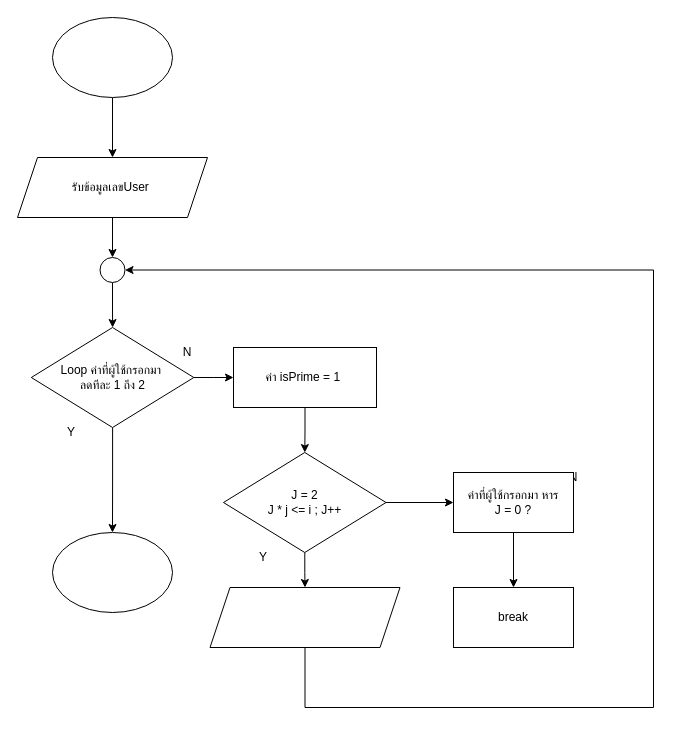
Image size: 679x733. Some labels were removed from this diagram. Each missing label, with the centre of its shape:
"END" belongs at (112,572).
"Start" belongs at (112,57).
"แสดงค่า" belongs at (304,617).
